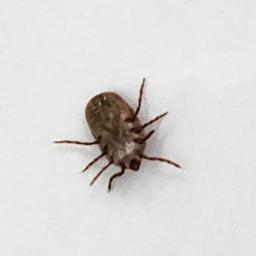Rhipicephalus sanguineus: (52, 76, 184, 192)
